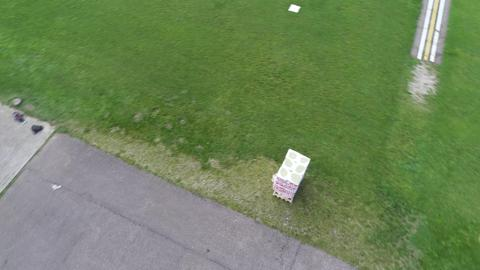RockwoolPallet: (273, 148, 312, 201)
